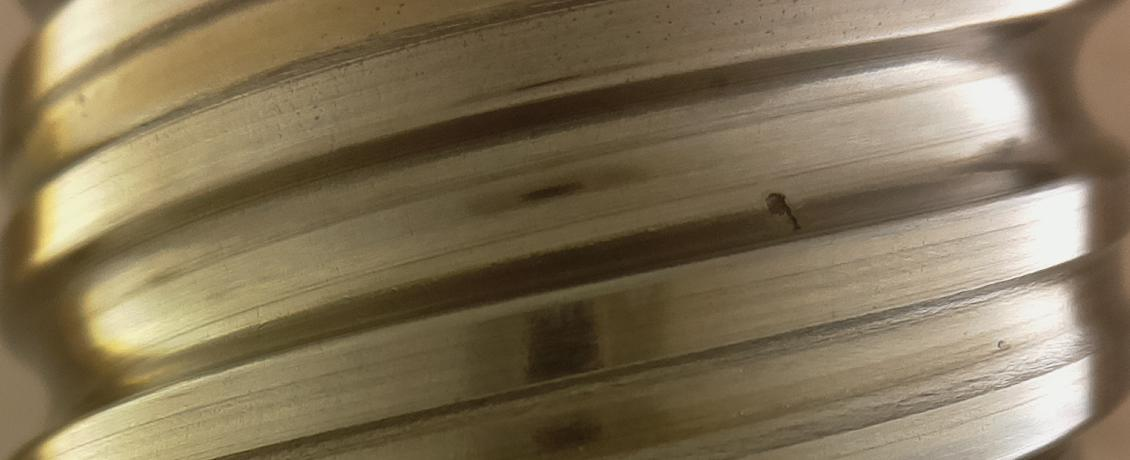pitting: (765, 192, 801, 232)
